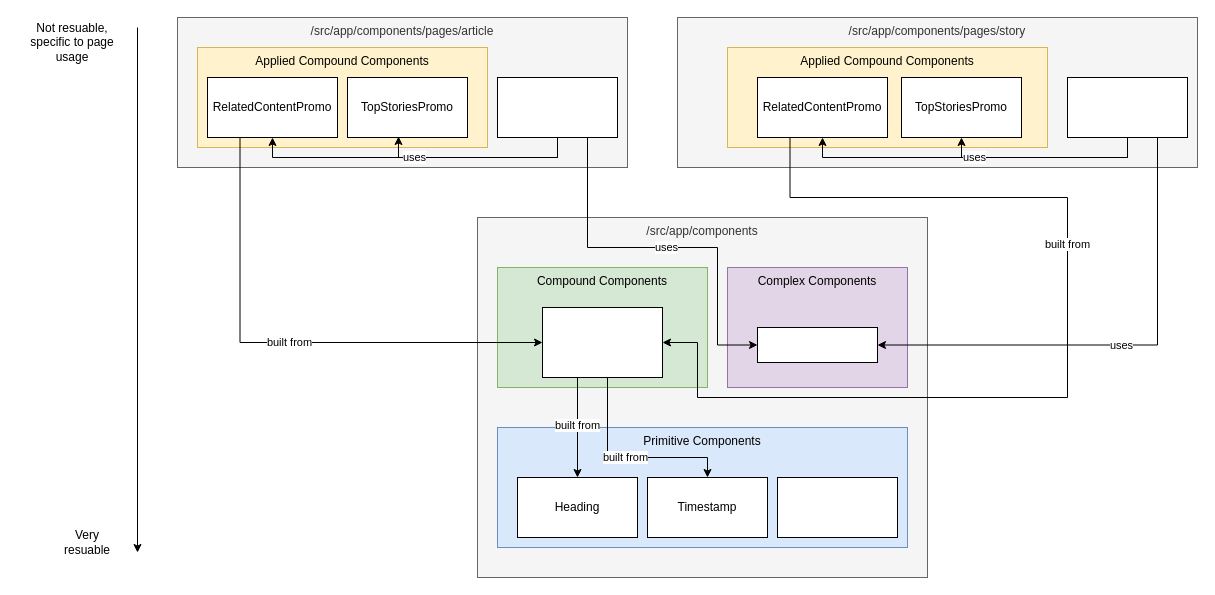
This 1215x595 diagram has some shape labels left out. Each missing label, with the centre of its shape:
Article: point 557,107
Byline: point 817,344
Image: point 837,507
Promo Promo.Heading Promo.Timestamp Promo.Image: point 602,342
Story: point 1127,107
